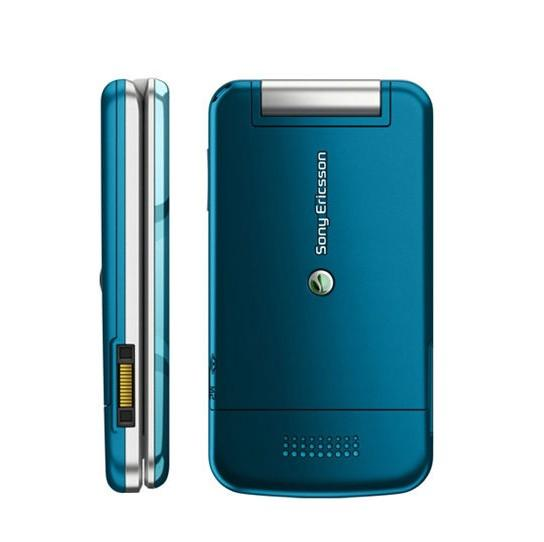phone: (204, 78, 437, 496), (99, 77, 170, 495)
